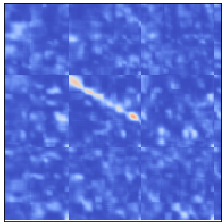action_path: (66, 75, 141, 149)
